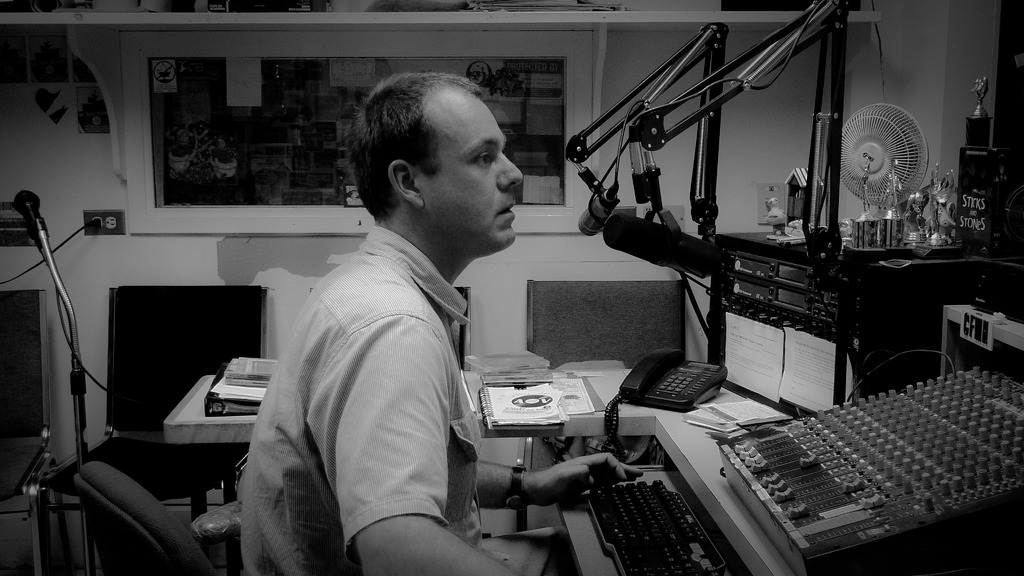face: (416, 99, 528, 243)
